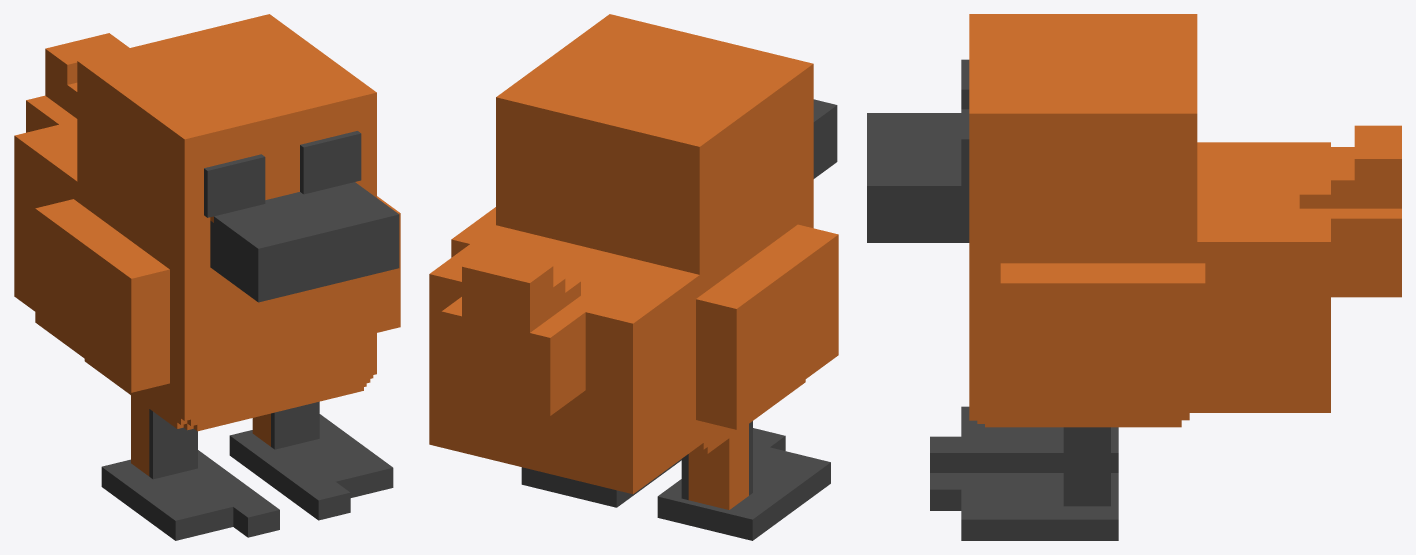
The model's file is Pato.obj.
3 renders of one model, left to right at view 1: azimuth 30°, elevation 25°; view 2: azimuth 150°, elevation 25°; view 3: azimuth 270°, elevation 25°, orthographic. The views are drawn at different scales.
Bounding box in the file's own units: 4.2 × 5.9 × 6.8.
